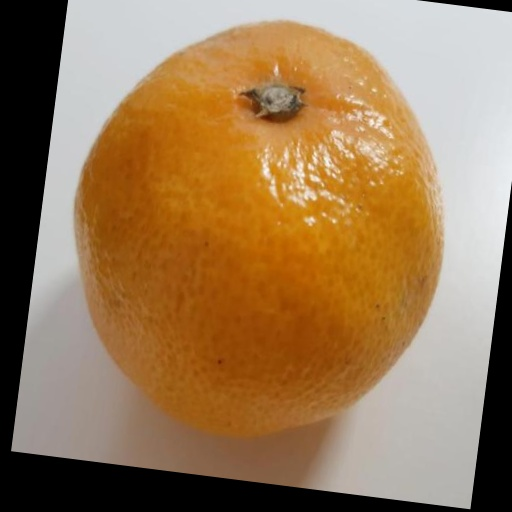fruit: (75, 22, 443, 436)
